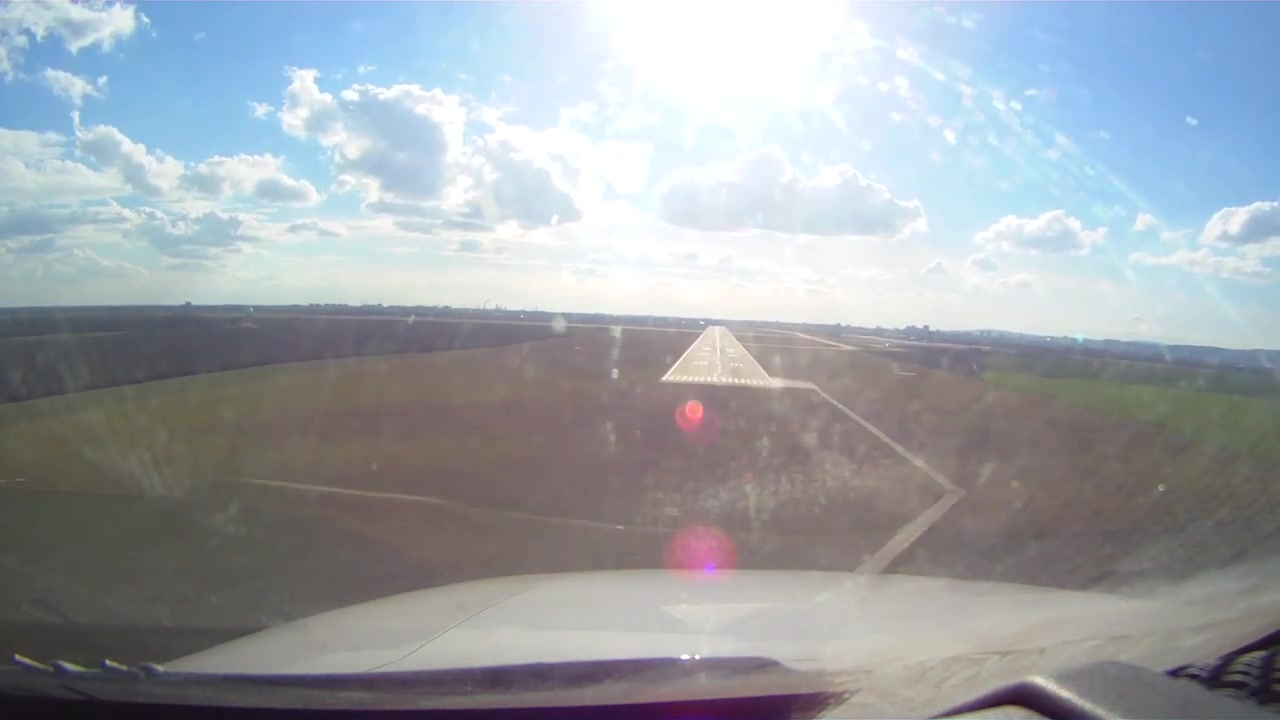entrance: (669, 373, 771, 387)
runway: (661, 325, 776, 390)
